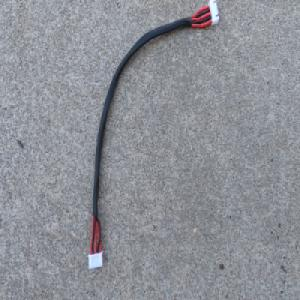Wire: (87, 0, 222, 273)
